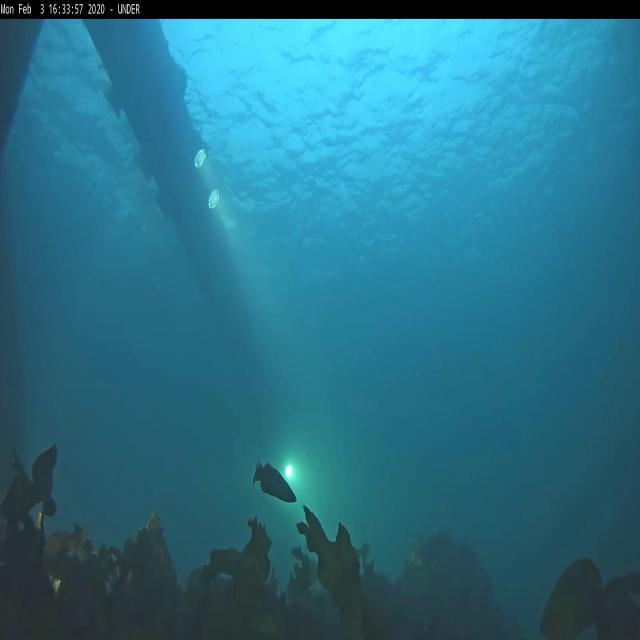fish: (253, 460, 298, 506)
